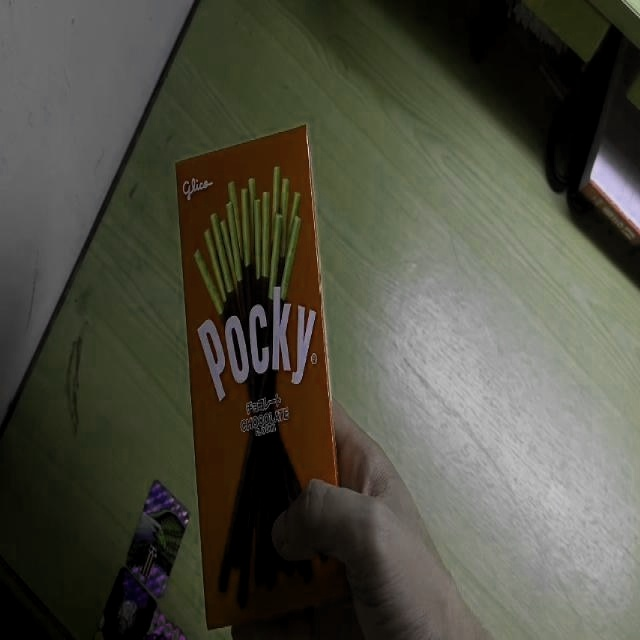Pocky: (174, 123, 346, 629)
